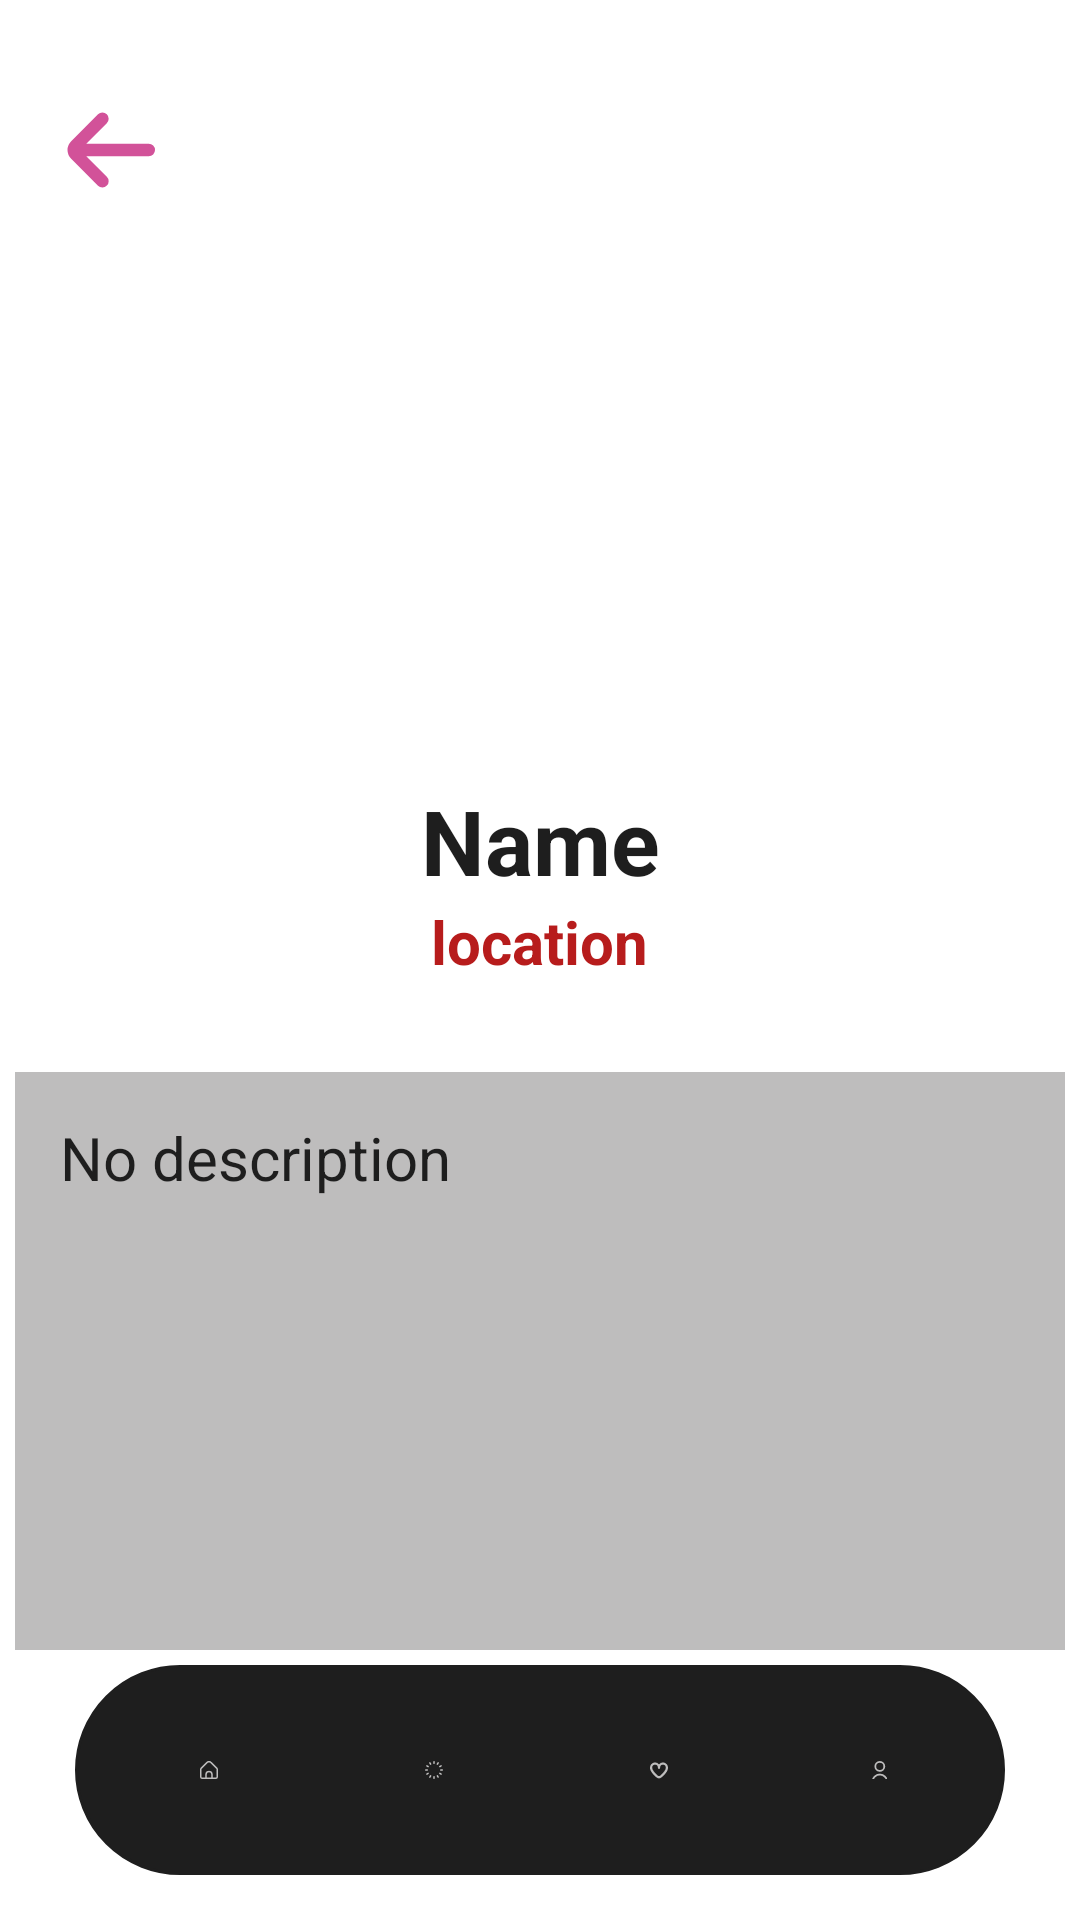

Where to tap for icons on this 1080px×1920px app screen, as [x,y]:
Back: [111,150]
